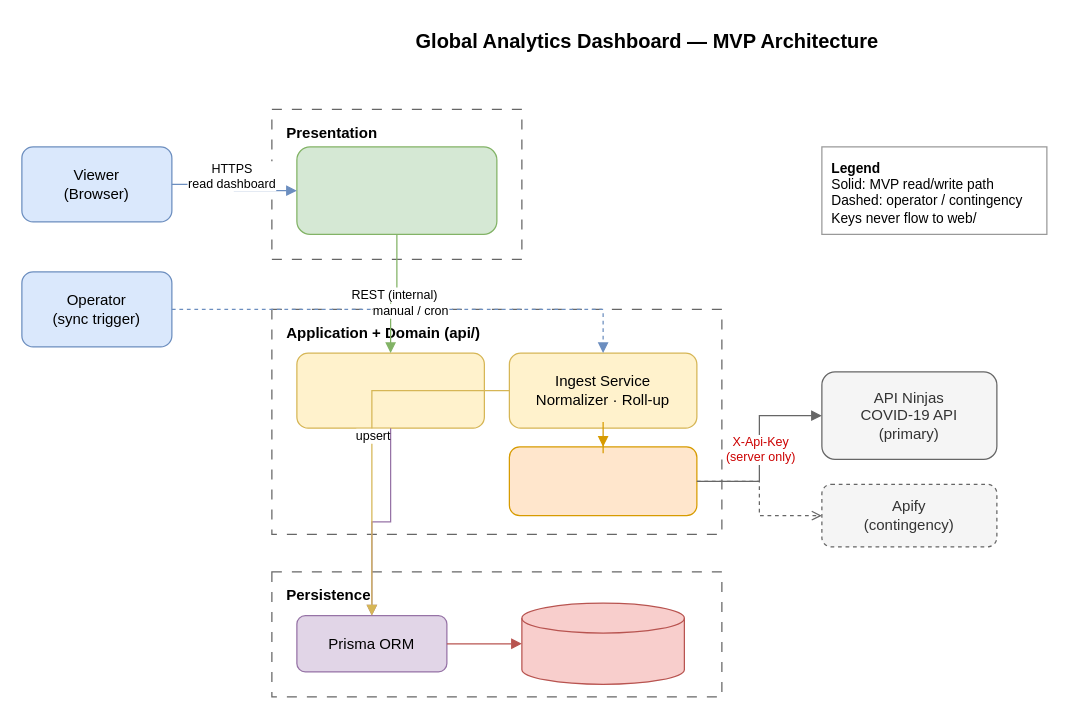
The diagram is 1069 pixels wide and 719 high, and some of its shapes have lost their labels. Here are the shapes that lost their labels. From the top down, the centre of each, then its label:
At pixel 396 190: "web/ Next.js + React Leaflet · KPIs · Chart".
At pixel 390 390: "REST Controllers (Covid / Summary / Series)".
At pixel 602 481: "Integration Client API Ninjas (+ Apify)".
At pixel 602 643: "PostgreSQL (system of record)".
